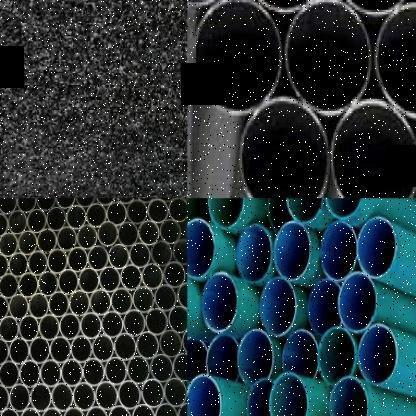pipe: (190, 0, 286, 118), (280, 0, 373, 114), (237, 92, 331, 198), (329, 98, 416, 198), (372, 1, 416, 118), (358, 324, 398, 386), (274, 220, 312, 282), (259, 276, 297, 337), (338, 271, 376, 332), (317, 326, 355, 386), (358, 216, 396, 276), (237, 327, 275, 386), (319, 222, 357, 280), (236, 223, 273, 282), (201, 272, 237, 332), (307, 278, 341, 336), (282, 329, 320, 379), (268, 372, 308, 416), (327, 374, 368, 416), (188, 218, 214, 279), (206, 334, 240, 380), (187, 374, 221, 416), (236, 0, 329, 15), (330, 0, 416, 15), (208, 198, 245, 230), (246, 378, 273, 416), (286, 198, 324, 223), (187, 336, 209, 379), (323, 198, 365, 219), (188, 198, 214, 227), (268, 198, 290, 232), (140, 378, 164, 408), (164, 378, 188, 408), (117, 380, 141, 410), (50, 382, 74, 412), (126, 356, 150, 386), (158, 328, 182, 358), (136, 332, 160, 361), (150, 353, 174, 382), (94, 381, 118, 410), (104, 357, 128, 386), (113, 332, 136, 362), (144, 308, 168, 336), (92, 334, 115, 363), (82, 358, 105, 387), (73, 382, 95, 412), (61, 358, 83, 388), (100, 311, 124, 338), (122, 310, 146, 337), (154, 284, 177, 312), (30, 384, 52, 413), (28, 336, 50, 365), (40, 359, 62, 388), (70, 335, 92, 364), (8, 384, 30, 413), (128, 242, 152, 268), (140, 264, 164, 290), (162, 262, 186, 288), (107, 243, 130, 270), (18, 360, 40, 388), (50, 336, 72, 364), (138, 219, 160, 247), (110, 288, 133, 314), (119, 264, 142, 290), (18, 315, 40, 342), (89, 289, 111, 316), (78, 268, 100, 295), (132, 286, 154, 313), (68, 290, 90, 317), (99, 266, 121, 293), (80, 312, 102, 339), (0, 360, 20, 389), (36, 228, 58, 254), (38, 314, 60, 340), (8, 294, 30, 320), (57, 269, 79, 295), (76, 224, 98, 250), (48, 292, 70, 318), (8, 338, 30, 364), (66, 246, 88, 272), (159, 218, 181, 244), (150, 240, 172, 266), (59, 313, 80, 340), (167, 306, 188, 333), (88, 244, 108, 272), (97, 222, 119, 247), (106, 201, 128, 226), (147, 199, 169, 224), (126, 200, 148, 225), (85, 203, 107, 228), (27, 250, 48, 276), (29, 292, 48, 320), (56, 226, 77, 251), (7, 210, 28, 235), (38, 270, 58, 296), (8, 252, 28, 278), (118, 221, 138, 247), (26, 208, 46, 234), (18, 272, 38, 298), (0, 316, 19, 343), (167, 198, 188, 222), (47, 249, 67, 274), (17, 231, 37, 256), (66, 205, 86, 230), (46, 207, 66, 232), (0, 274, 19, 300), (172, 352, 187, 382), (171, 240, 188, 266), (0, 232, 17, 257), (176, 282, 188, 309), (16, 198, 36, 214), (154, 403, 178, 416), (0, 384, 10, 413), (130, 404, 154, 416), (35, 198, 56, 211), (108, 405, 132, 416), (0, 198, 16, 214), (0, 339, 9, 366), (54, 198, 76, 209), (0, 295, 9, 321), (180, 327, 188, 356), (85, 406, 108, 416), (0, 254, 9, 279), (74, 198, 95, 208), (40, 407, 63, 416), (62, 407, 85, 416), (20, 407, 42, 416), (94, 198, 116, 206), (0, 408, 20, 416), (1, 212, 7, 237), (114, 198, 135, 205), (178, 402, 188, 416), (135, 198, 156, 204)
